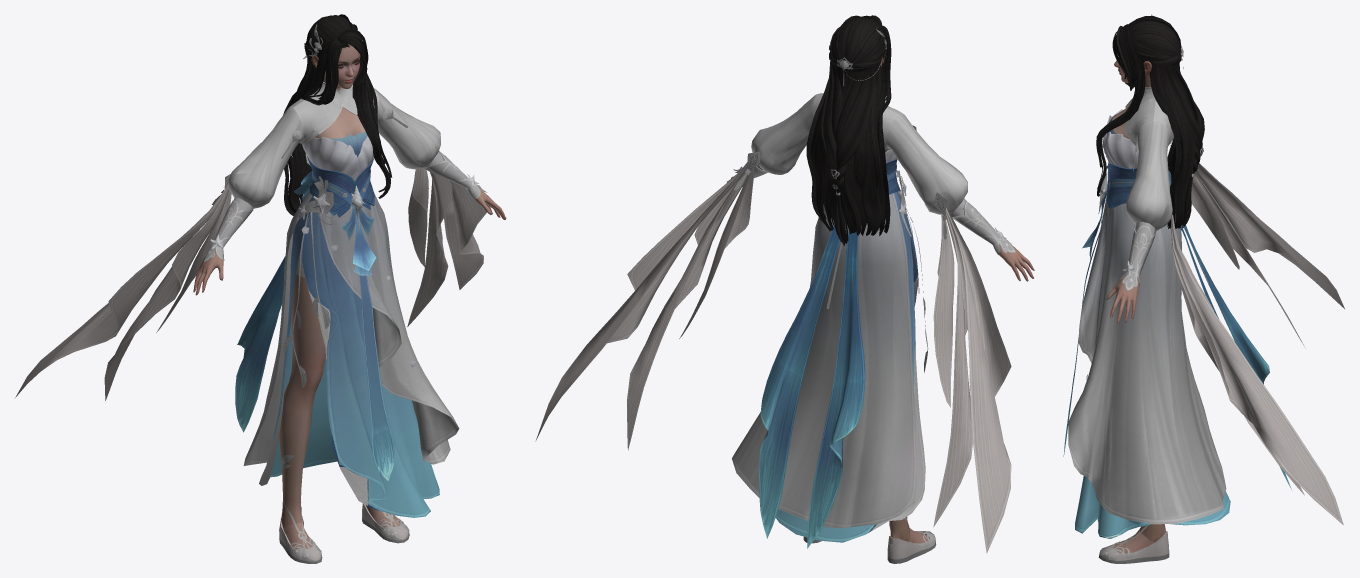
3 views of the same model, side by side, from view 1: azimuth 30°, elevation 25°; view 2: azimuth 150°, elevation 25°; view 3: azimuth 270°, elevation 25° (orthographic).
Parts seen in each view (by area): view 1: shengxiu minyu pao, shengxiu minyu_xiuzi, shengxiu minyu leg, mingyu hairbk, shengxiu mingyu coat, shengxiu minyu_wandai, shengxiu minyu pants, shengxiu minyu_hair top, shengxiu minyu_hands, shengxiu minyu_face, shengxiu minyu body; view 2: shengxiu minyu pao, shengxiu minyu_xiuzi, mingyu hairbk, shengxiu minyu_hair top, shengxiu minyu_wandai, shengxiu minyu pants; view 3: shengxiu minyu pao, shengxiu minyu_xiuzi, mingyu hairbk, shengxiu mingyu coat, shengxiu minyu_hair top, shengxiu minyu pants, shengxiu minyu_wandai, shengxiu minyu leg, shengxiu minyu_hands.
Part boxes in pixels (box(x1,y1,x2,y2)): shengxiu minyu pao: box(235, 190, 459, 517); shengxiu minyu_xiuzi: box(15, 82, 486, 400); shengxiu minyu leg: box(279, 274, 400, 549); mingyu hairbk: box(283, 29, 392, 215); shengxiu mingyu coat: box(293, 136, 374, 241); shengxiu minyu_wandai: box(204, 151, 487, 261); shengxiu minyu pants: box(279, 248, 409, 563); shengxiu minyu_hair top: box(304, 14, 357, 57); shengxiu minyu_hands: box(193, 188, 506, 295); shengxiu minyu_face: box(311, 43, 360, 88); shengxiu minyu body: box(315, 87, 365, 138); shengxiu minyu pao: box(732, 191, 928, 548); shengxiu minyu_xiuzi: box(535, 93, 1011, 553); mingyu hairbk: box(806, 15, 891, 245); shengxiu minyu_hair top: box(829, 15, 885, 72); shengxiu minyu_wandai: box(727, 166, 1015, 254); shengxiu minyu pants: box(803, 235, 936, 563); shengxiu minyu pao: box(1063, 190, 1291, 538); shengxiu minyu_xiuzi: box(1109, 87, 1344, 525); mingyu hairbk: box(1096, 24, 1204, 230); shengxiu mingyu coat: box(1098, 109, 1171, 226); shengxiu minyu_hair top: box(1129, 16, 1181, 67); shengxiu minyu pants: box(1098, 524, 1169, 563); shengxiu minyu_wandai: box(1118, 221, 1156, 290); shengxiu minyu leg: box(1113, 524, 1166, 553); shengxiu minyu_hands: box(1106, 165, 1139, 323).
Size of the model in its own units: 14932 by 16507 by 8155.
